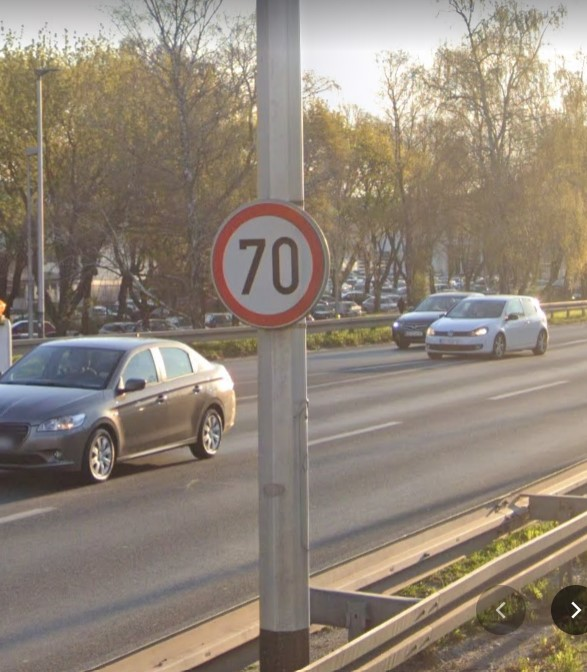Ograničenje brzine 70: (210, 200, 330, 330)
